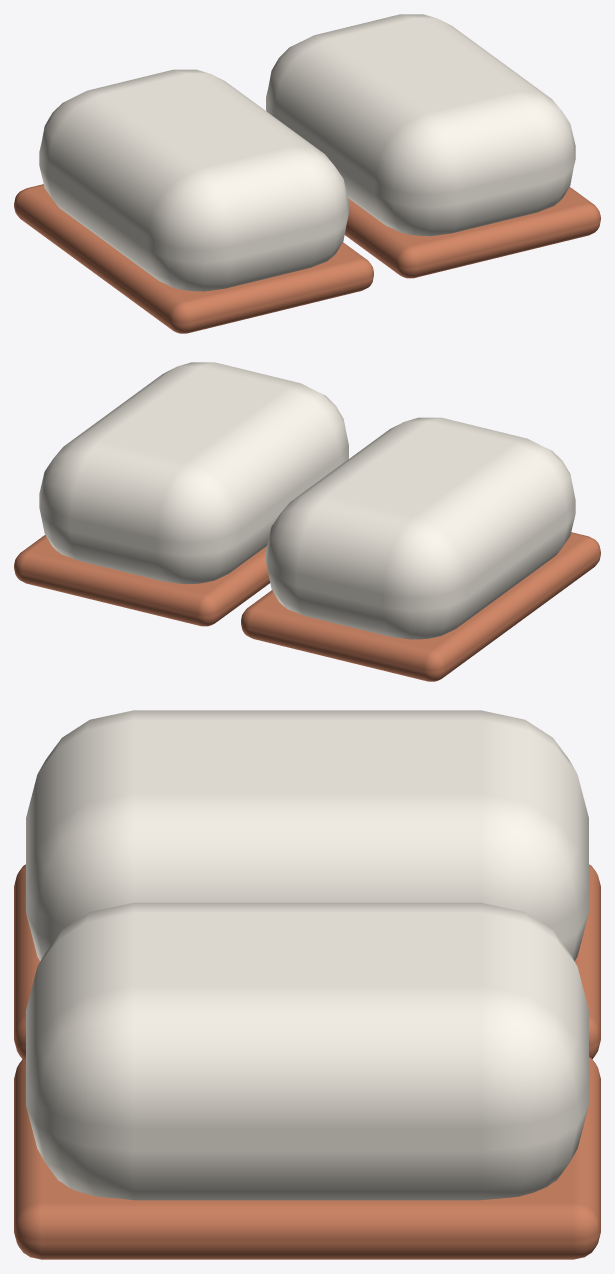
The model's file is loafers.glb.
3 renders of one model, top to bottom at view 1: azimuth 30°, elevation 25°; view 2: azimuth 150°, elevation 25°; view 3: azimuth 270°, elevation 25°, orthographic. The views are drawn at different scales.
Visible parts, largest first — view 1: loafers_LegL, loafers_LegR; view 2: loafers_LegL, loafers_LegR; view 3: loafers_LegR, loafers_LegL.
Part boxes in pixels (x1,y1,x2,y2): loafers_LegL: (14, 69, 373, 333); loafers_LegR: (266, 14, 600, 278); loafers_LegL: (241, 417, 600, 681); loafers_LegR: (14, 362, 348, 626); loafers_LegR: (14, 902, 600, 1259); loafers_LegL: (14, 710, 600, 1058).
Size of the model in its own units: 0.36 by 0.1075 by 0.245.
